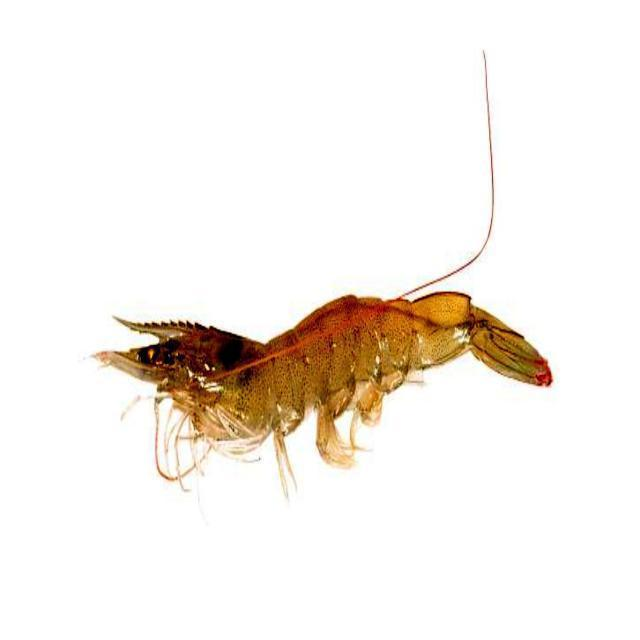shrimp: (97, 292, 552, 490)
